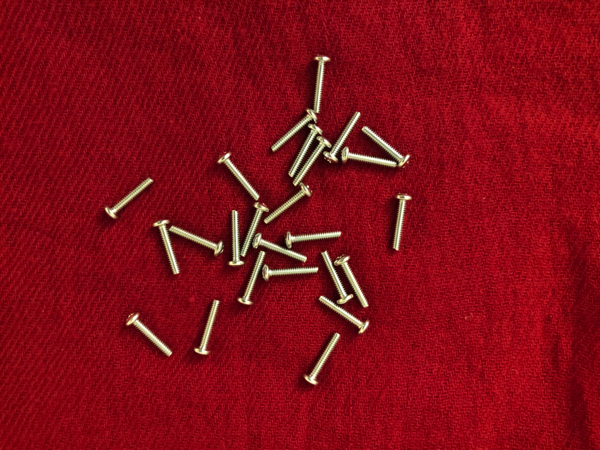longscrew: (124, 311, 174, 359), (215, 150, 261, 202), (103, 175, 155, 221), (323, 110, 364, 165), (361, 124, 411, 169), (263, 182, 315, 225), (302, 332, 342, 387), (291, 136, 333, 188), (270, 108, 319, 152), (286, 123, 324, 178), (318, 295, 371, 334), (334, 253, 370, 309), (320, 250, 355, 305), (252, 232, 310, 265), (167, 225, 225, 258), (191, 298, 222, 358), (239, 201, 270, 260), (237, 249, 268, 307), (151, 219, 181, 277), (340, 147, 400, 171), (390, 191, 413, 252), (310, 53, 332, 115), (284, 228, 343, 250), (226, 209, 246, 268), (261, 265, 322, 283)
